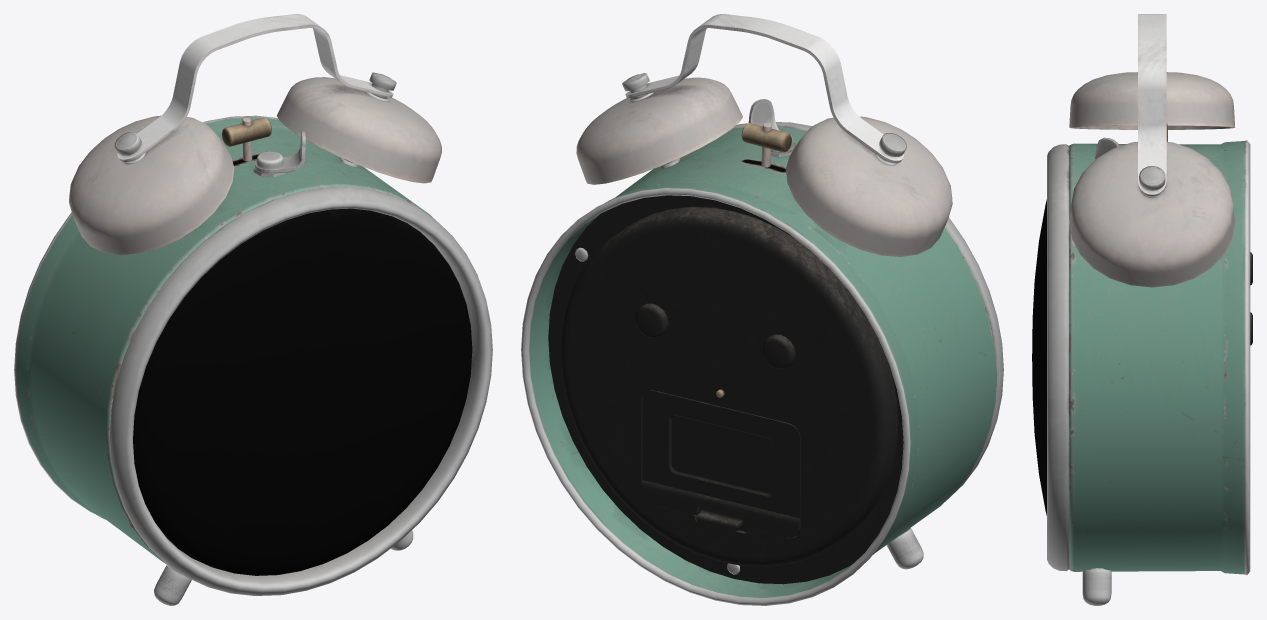
File: alarm_clock_01.glb
3 views of the same model, side by side, from view 1: azimuth 30°, elevation 25°; view 2: azimuth 150°, elevation 25°; view 3: azimuth 270°, elevation 25° (orthographic). The views are drawn at different scales.
Visible parts, largest first — view 1: alarm_clock_01; view 2: alarm_clock_01; view 3: alarm_clock_01.
Boxes of the visible parts, x1,y1,x2,y2 form: alarm_clock_01: [14, 14, 492, 605]; alarm_clock_01: [521, 14, 1003, 605]; alarm_clock_01: [1032, 14, 1252, 605].
Size of the model in its own units: 0.1317 by 0.1742 by 0.0667.
2 materials, 2 textured.
